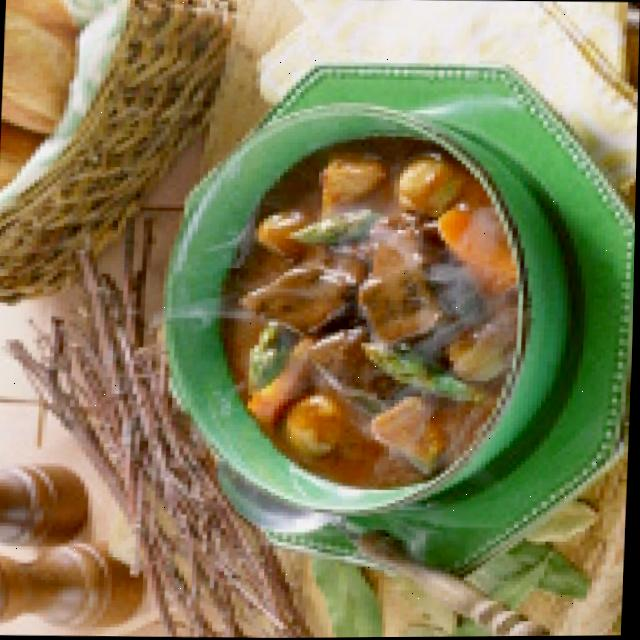汤锅炖物: (140, 42, 639, 587)
